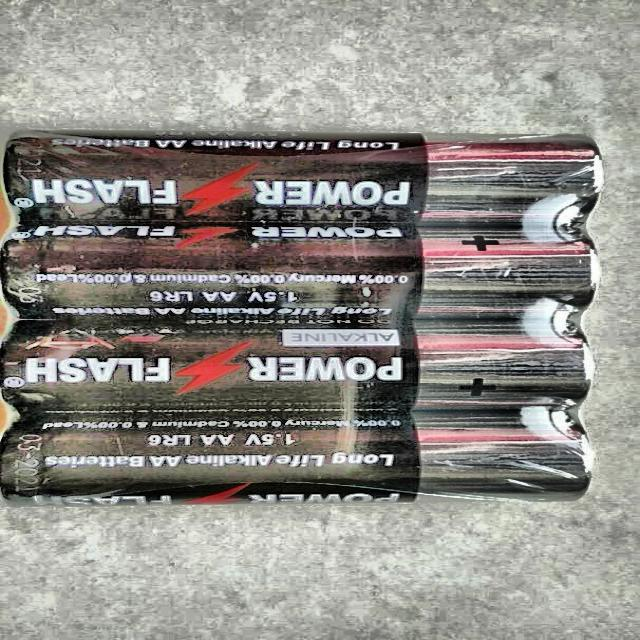Non-Valuable Waste - Batteries: (2, 131, 601, 505)
